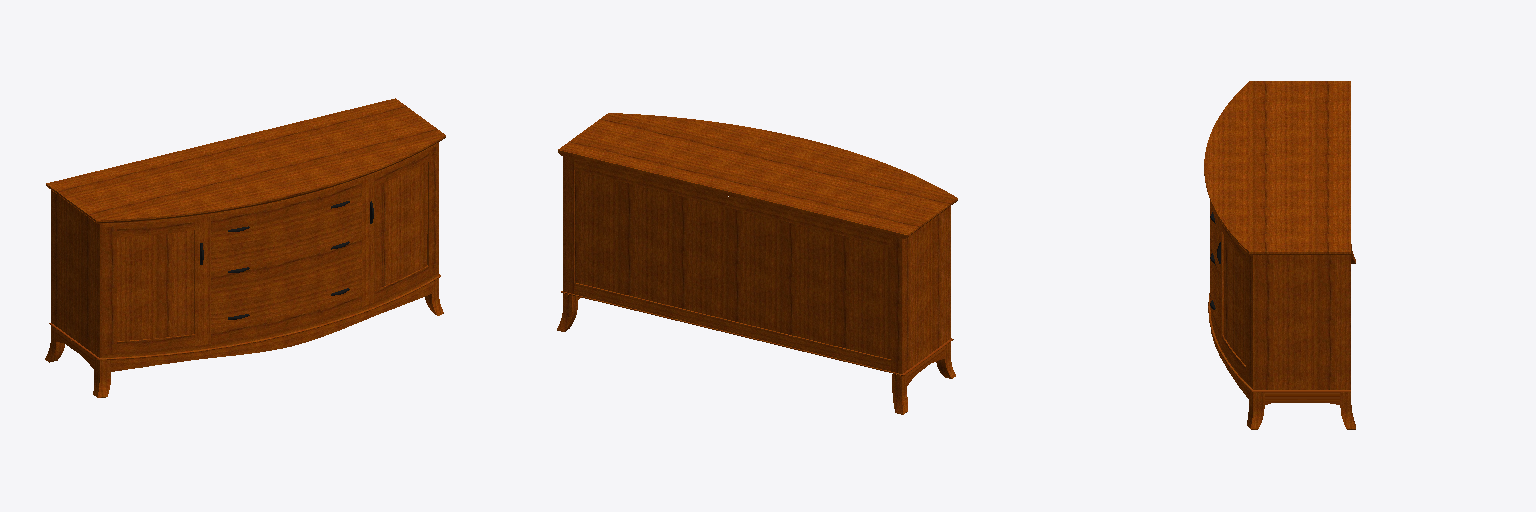
3 views of the same model, side by side, from view 1: azimuth 30°, elevation 25°; view 2: azimuth 150°, elevation 25°; view 3: azimuth 270°, elevation 25° (orthographic).
Visible parts, largest first — view 1: Mesh5 CSB_Case1 CSB1 Model, Mesh10 top1 CSB1 Model, Mesh1 bottom_rail1 CSB1 Model, Mesh4 CSB_Bottom_Panel_1_1 CSB1 Model, Mesh3 CSB_front_leg2 CSB1 Model; view 2: Mesh5 CSB_Case1 CSB1 Model, Mesh10 top1 CSB1 Model, Mesh4 CSB_Bottom_Panel_1_1 CSB1 Model, Mesh7 CSB_Rear_Leg2 CSB1 Model; view 3: Mesh10 top1 CSB1 Model, Mesh5 CSB_Case1 CSB1 Model, Mesh8 CSB_Side_Rail1 CSB1 Model, Mesh2 CSB_front_leg1 CSB1 Model.
Part boxes in pixels (x1,y1,x2,y2): Mesh5 CSB_Case1 CSB1 Model: (51,142,438,357); Mesh10 top1 CSB1 Model: (46,98,445,223); Mesh1 bottom_rail1 CSB1 Model: (111,282,431,371); Mesh4 CSB_Bottom_Panel_1_1 CSB1 Model: (49,274,440,359); Mesh3 CSB_front_leg2 CSB1 Model: (93,357,110,397); Mesh5 CSB_Case1 CSB1 Model: (563,156,950,373); Mesh10 top1 CSB1 Model: (558,113,957,238); Mesh4 CSB_Bottom_Panel_1_1 CSB1 Model: (561,291,953,375); Mesh7 CSB_Rear_Leg2 CSB1 Model: (892,374,907,414); Mesh10 top1 CSB1 Model: (1204,81,1350,254); Mesh5 CSB_Case1 CSB1 Model: (1210,201,1350,389); Mesh8 CSB_Side_Rail1 CSB1 Model: (1265,392,1339,404); Mesh2 CSB_front_leg1 CSB1 Model: (1247,389,1264,429).
Bounding box in the file's own units: 64.88 × 31.63 × 24.37.
Materials: 3 (1 with a texture image).